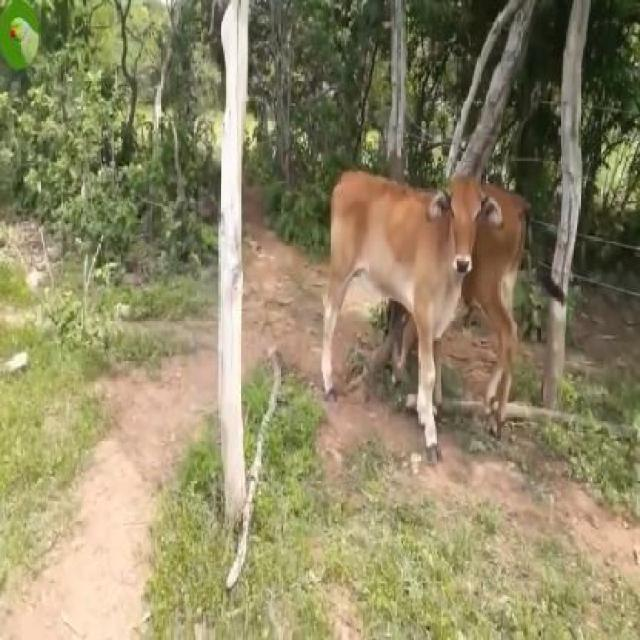Cow: (322, 171, 504, 466)
